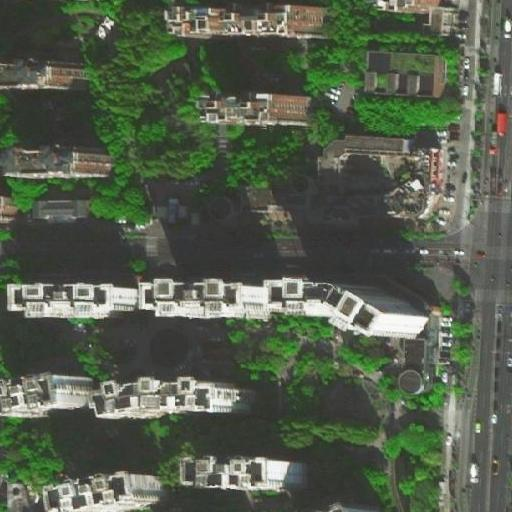building: (273, 281, 427, 341), (334, 147, 446, 220), (163, 8, 324, 39), (8, 281, 136, 318), (146, 283, 270, 321), (97, 383, 248, 414), (50, 472, 164, 512), (183, 456, 301, 490), (9, 372, 92, 419), (196, 95, 316, 126), (371, 49, 447, 97), (0, 151, 112, 182), (0, 61, 112, 92), (327, 134, 412, 156), (248, 188, 313, 211), (34, 199, 92, 223), (199, 199, 235, 226), (152, 198, 184, 222), (3, 480, 26, 512), (398, 370, 425, 396), (0, 195, 17, 221)
